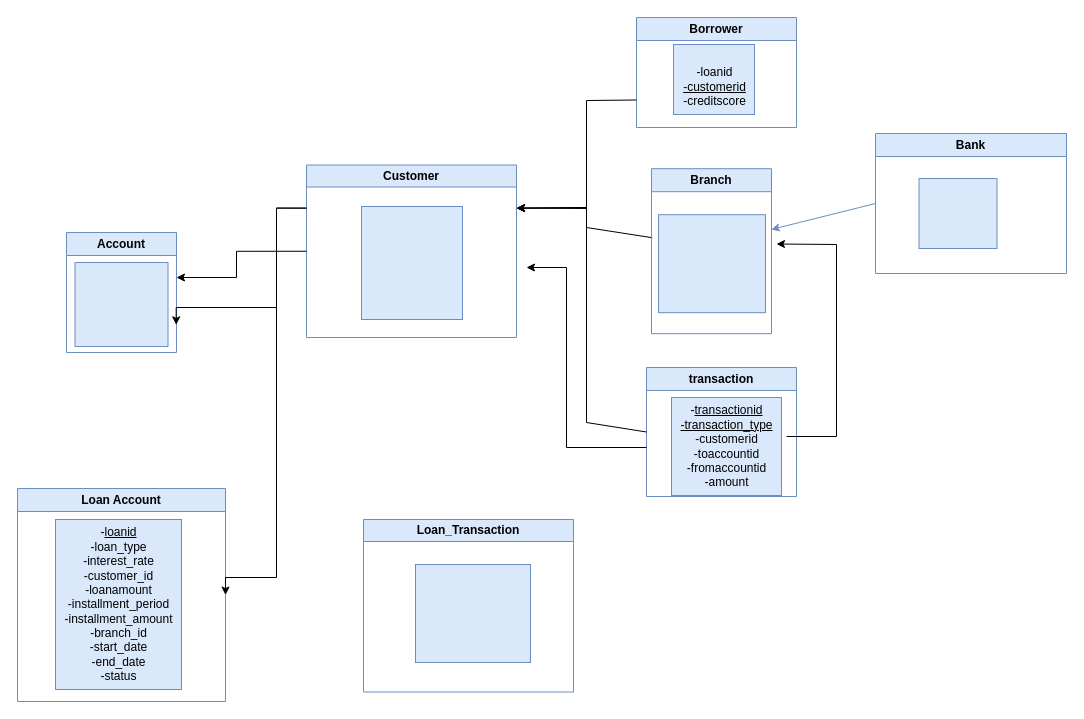
Image size: 1084x719. Some labels were removed from this diagram. Here are the shapes that lost their labels. From the top down, the centre of each, then its label:
[957,213]: - bankID -bankname
[411,263]: - customerID -name -customer_type -address -GovtID -Phone number -password
[712,263]: - branchID -branch name -city -street -no_of_accounts
[121,304]: - accountid -account_type -customerID -balance -start_date
[472,613]: -loantransactionID -loanid -customerid -paymentdate -amount
